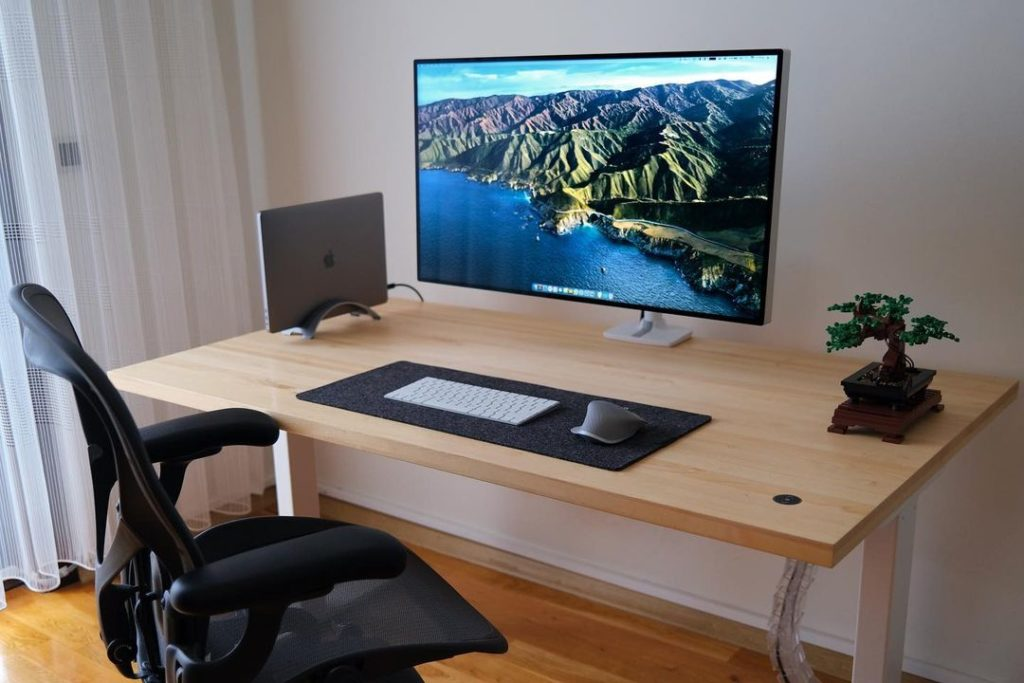laptop: (409, 53, 784, 329), (257, 193, 388, 332)
